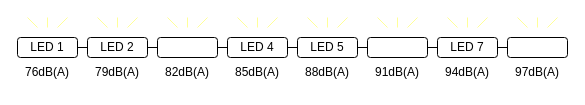
Some shapes in this 585 by 105 pixel diagram are drawn without their labels. Here are the shapes that lost their labels. From the top down, the centre of each, then its label:
At (187,47): "LED 3".
At (397,47): "LED 6".
At (537,47): "LED 8".
